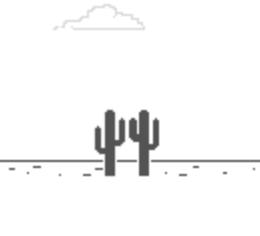dead-t-rex: (88, 105, 166, 186)
